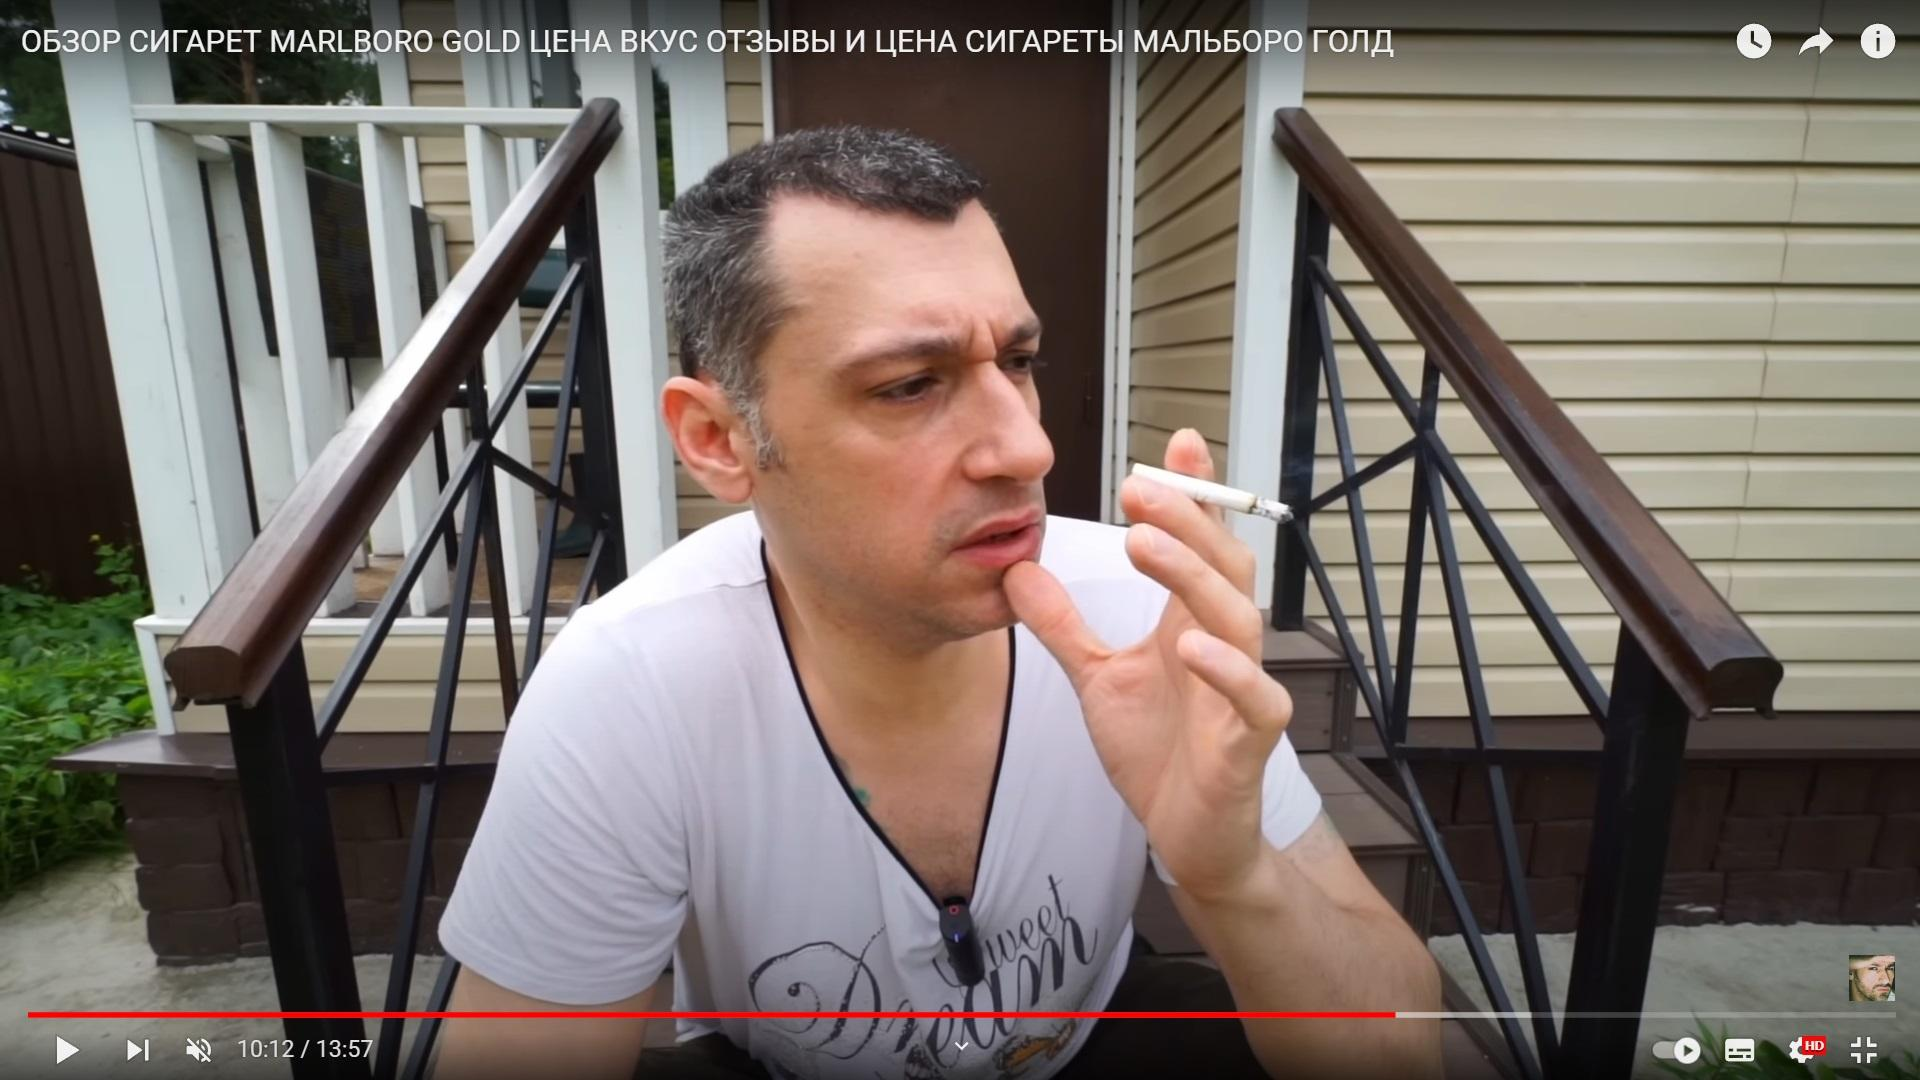cigarette: (1127, 463, 1294, 522)
